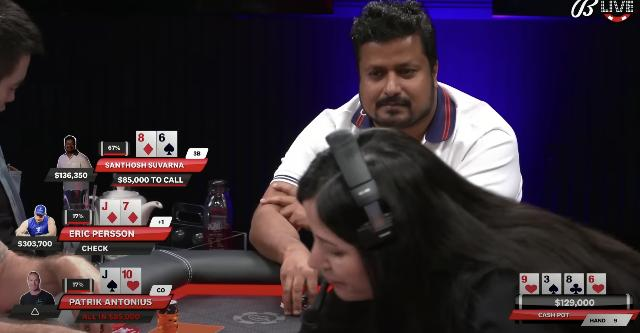10H: (122, 268, 140, 294)
3S: (543, 275, 561, 295)
6H: (588, 275, 606, 295)
6S: (158, 132, 176, 156)
7D: (122, 200, 140, 226)
8C: (565, 274, 583, 296)
8D: (136, 132, 156, 156)
9H: (520, 275, 538, 295)
JD: (100, 200, 120, 226)
JS: (100, 268, 120, 294)
